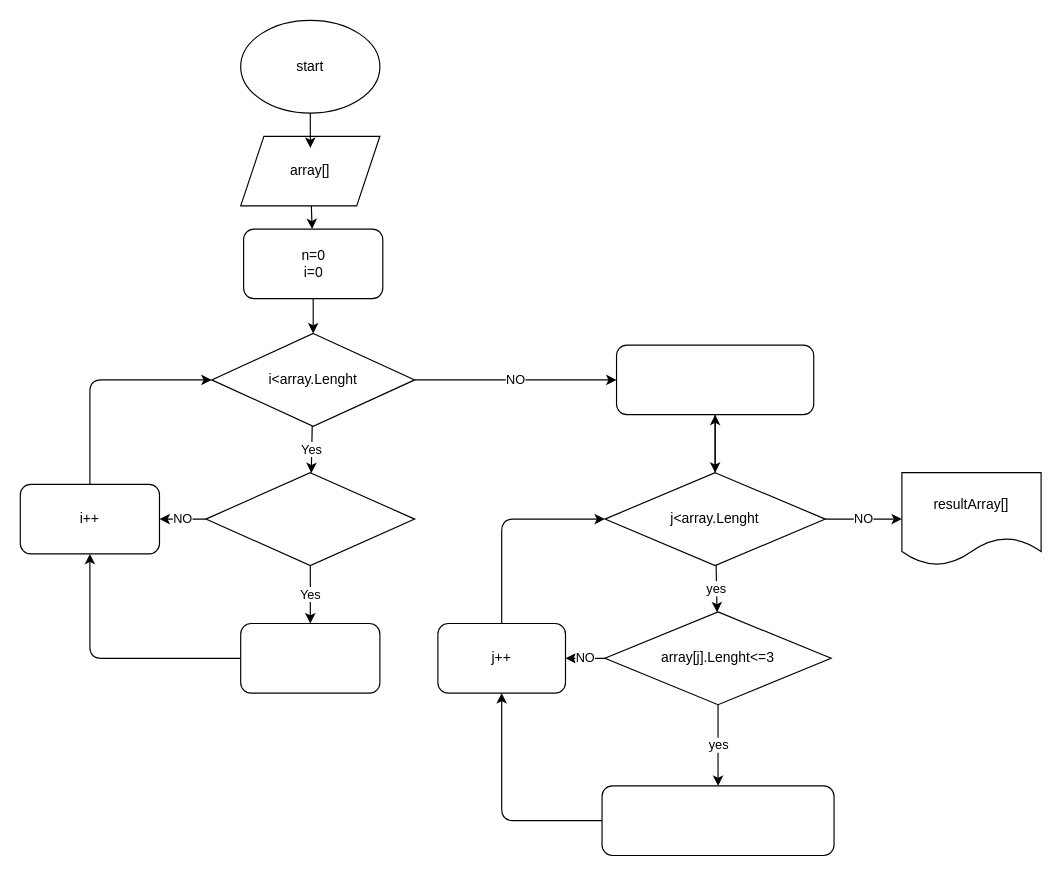
This 1061x876 diagram has some shape labels left out. Each missing label, with the box of its shape:
array[i].Lengh<=3: (205, 472, 415, 566)
n++: (240, 622, 380, 693)
resultArray[k]=array[j] k++: (601, 785, 834, 855)
resultArray[n] j=0 k=0: (615, 344, 814, 415)
